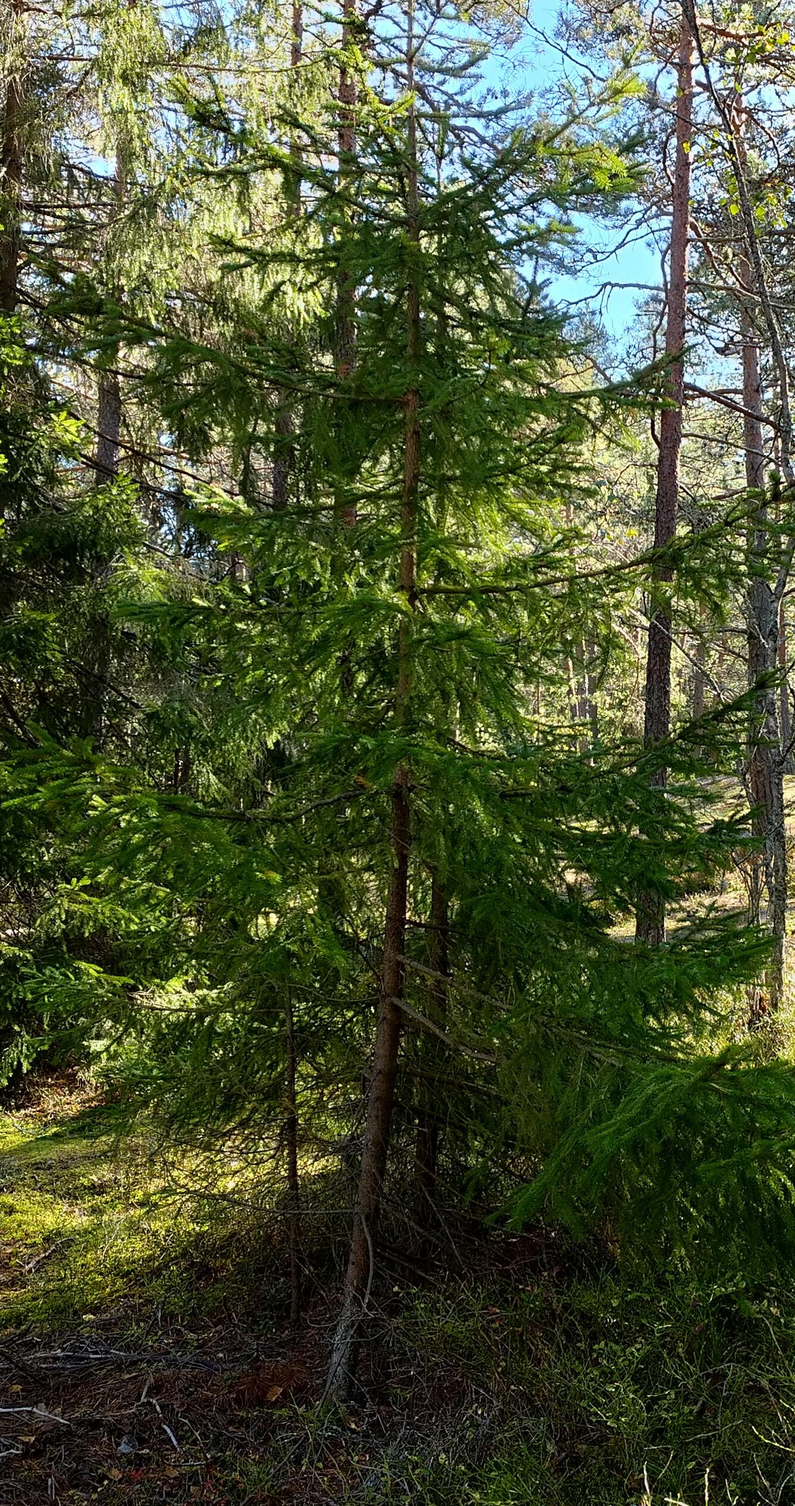Spruce: (145, 94, 645, 1409)
